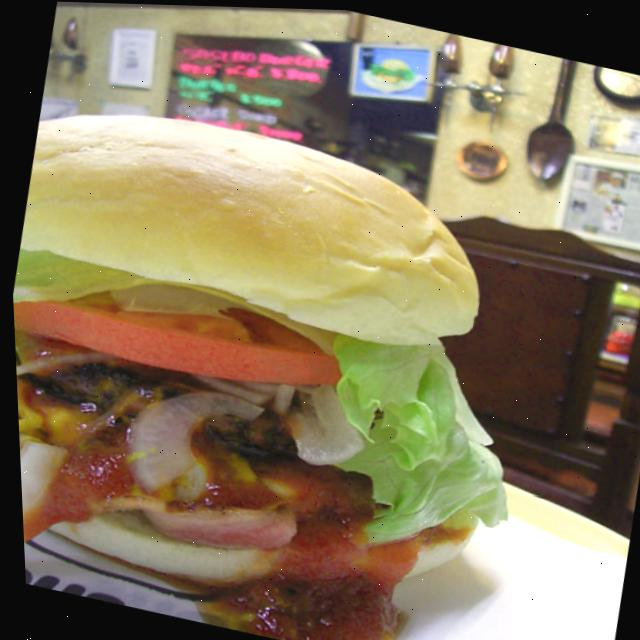汉堡快餐: (2, 69, 583, 640)
